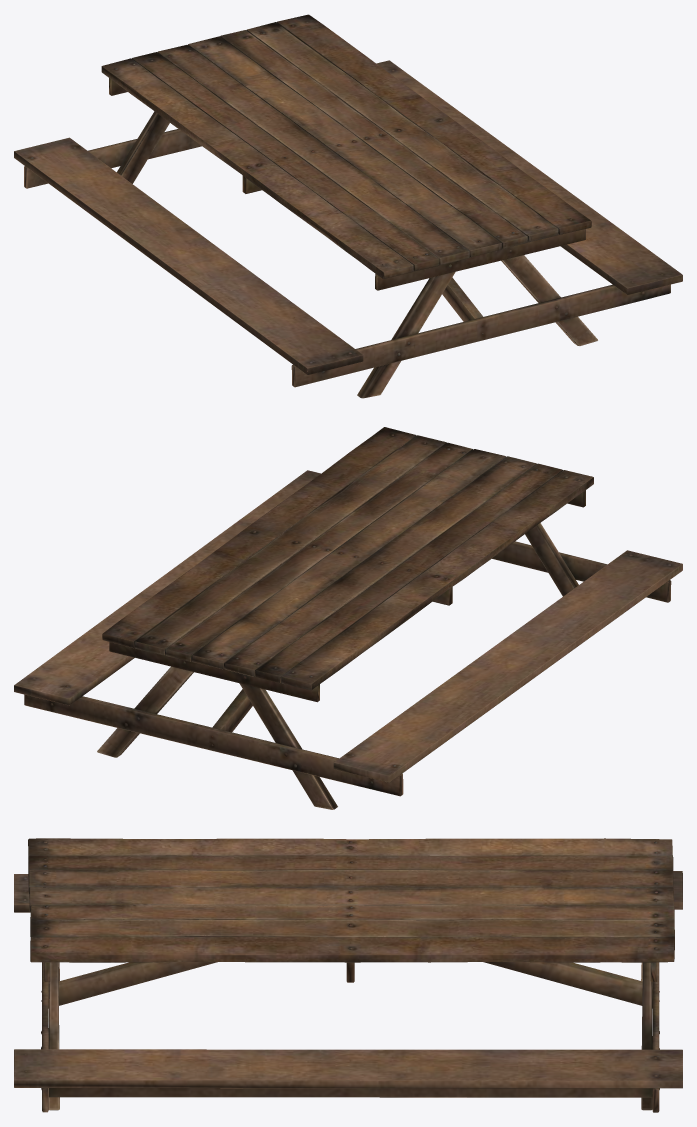
The model's file is picnic-medium.glb.
The picture shows the model from 3 angles, top to bottom: view 1: azimuth 30°, elevation 25°; view 2: azimuth 150°, elevation 25°; view 3: azimuth 270°, elevation 25°; orthographic projection. The views are drawn at different scales.
Visible parts, largest first — view 1: wooden_picnic_table baked; view 2: wooden_picnic_table baked; view 3: wooden_picnic_table baked.
Part boxes in pixels (<box>): wooden_picnic_table baked: <box>14,14,682,398</box>; wooden_picnic_table baked: <box>14,427,682,809</box>; wooden_picnic_table baked: <box>14,838,682,1112</box>.
Size of the model in its own units: 2.24 by 0.746 by 3.02.
2 materials, 2 textured.
